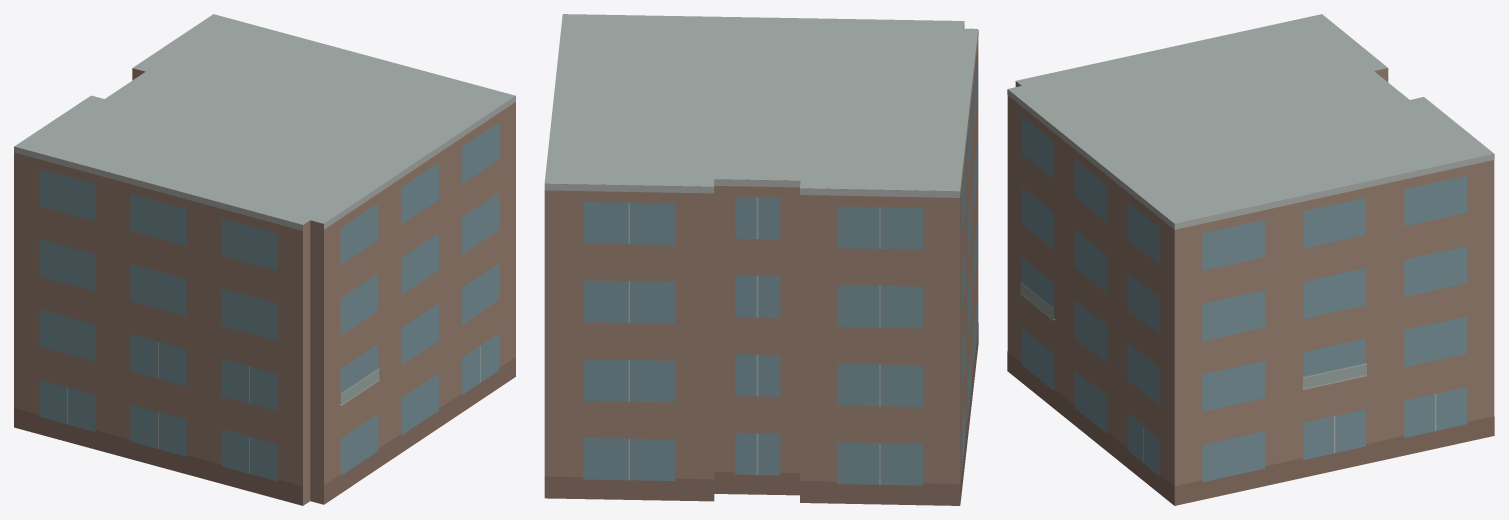
Rendered from survey-upis-32620440.glb.
The picture shows the model from 3 angles, left to right: view 1: azimuth 30°, elevation 25°; view 2: azimuth 150°, elevation 25°; view 3: azimuth 270°, elevation 25°; orthographic projection. The views are drawn at different scales.
Parts seen in each view (by area): view 1: survey-upis-32620440.tmp; view 2: survey-upis-32620440.tmp; view 3: survey-upis-32620440.tmp.
Boxes of the visible parts, <box> form: survey-upis-32620440.tmp: <box>14,14,515,505</box>; survey-upis-32620440.tmp: <box>544,14,978,505</box>; survey-upis-32620440.tmp: <box>1007,14,1494,505</box>.
Bounding box in the file's own units: 18.2 × 11.4 × 17.85.
